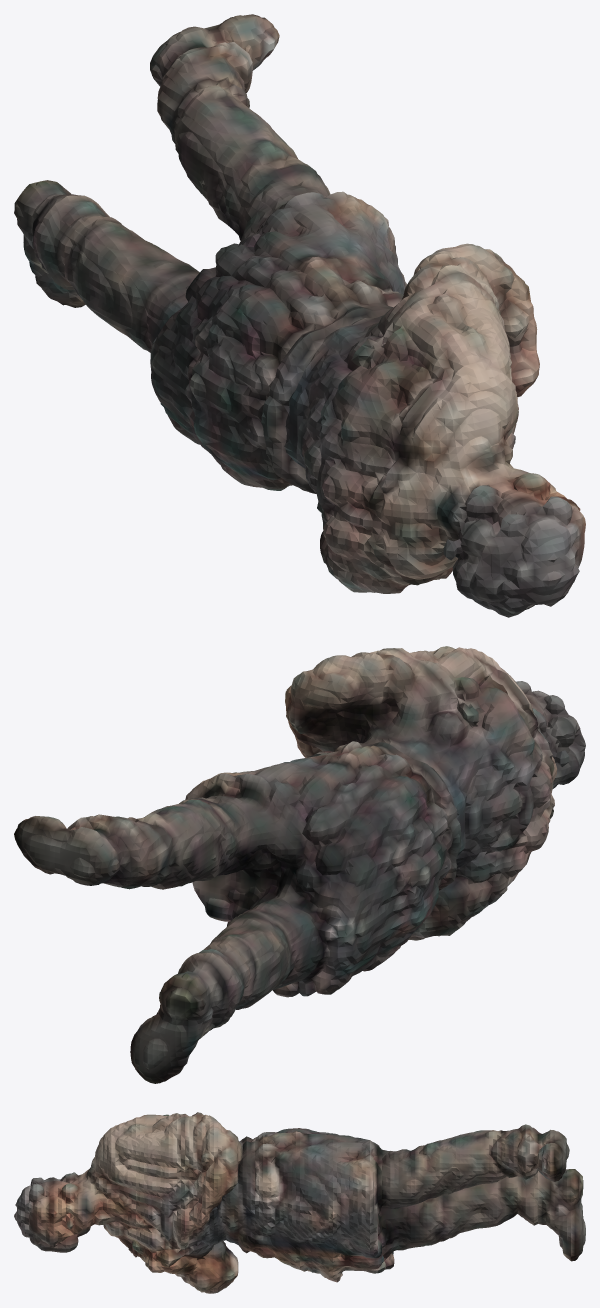
3 renders of one model, top to bottom at view 1: azimuth 30°, elevation 25°; view 2: azimuth 150°, elevation 25°; view 3: azimuth 270°, elevation 25°, orthographic. The views are drawn at different scales.
Parts seen in each view (by area): view 1: world; view 2: world; view 3: world.
Part boxes in pixels (<box>): world: <box>14,14,585,617</box>; world: <box>14,646,585,1083</box>; world: <box>14,1112,585,1293</box>.
Bounding box in the file's own units: 0.3325 × 0.3467 × 0.9509.
